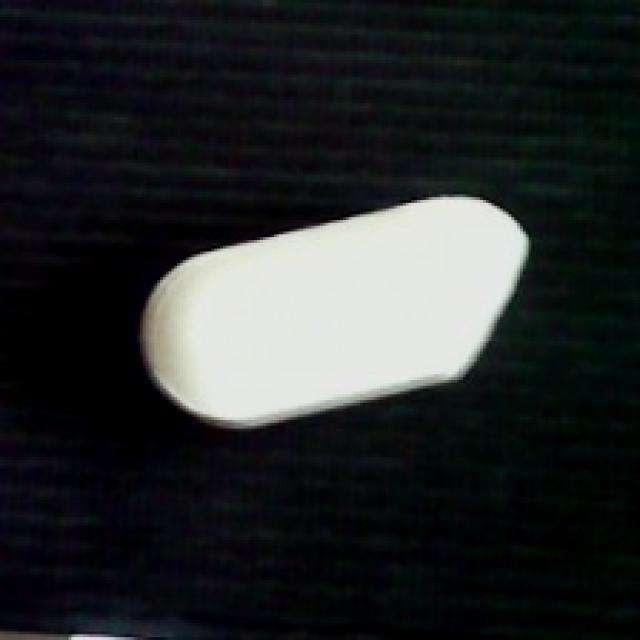defected: (135, 192, 534, 434)
